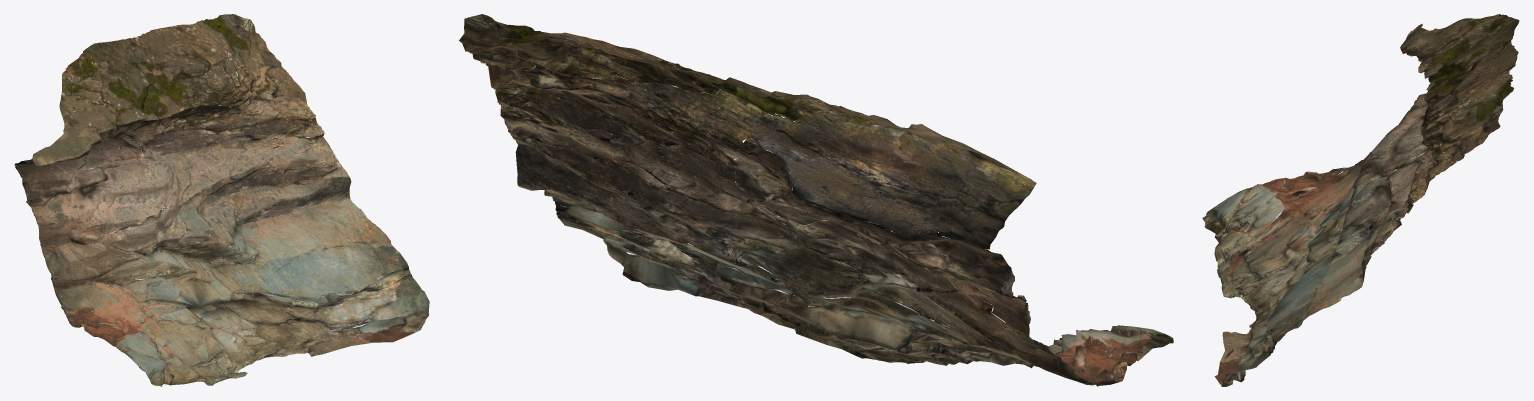
Rendered from ph_rock_face_01.glb.
3 views of the same model, side by side, from view 1: azimuth 30°, elevation 25°; view 2: azimuth 150°, elevation 25°; view 3: azimuth 270°, elevation 25° (orthographic). The views are drawn at different scales.
Visible parts, largest first — view 1: rock_face_01; view 2: rock_face_01; view 3: rock_face_01.
Part boxes in pixels (x1=…): rock_face_01: x1=14, y1=14, x2=429, y2=386; rock_face_01: x1=459, y1=14, x2=1173, y2=386; rock_face_01: x1=1202, y1=14, x2=1519, y2=386.
Bounding box in the file's own units: 4.95 × 3.57 × 3.83.
Materials: 1 (1 with a texture image).
